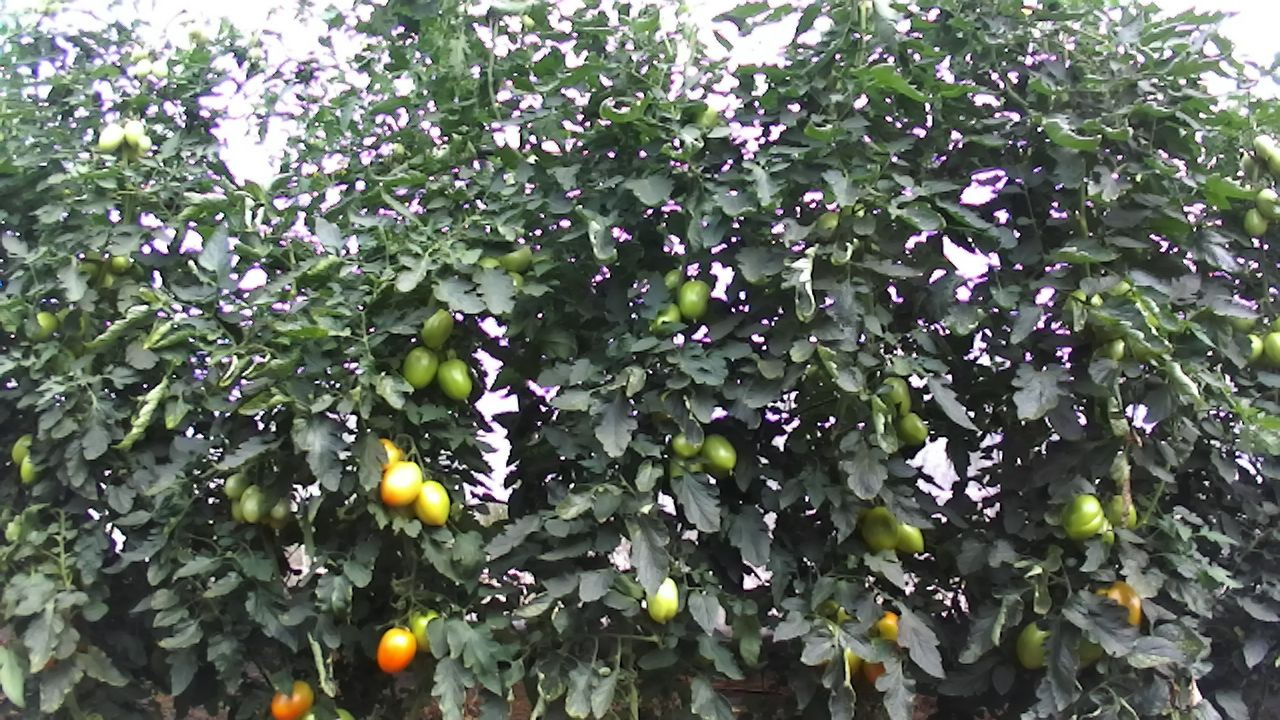tomato: (374, 625, 419, 676), (378, 459, 423, 509), (1061, 491, 1105, 542), (411, 477, 452, 529), (268, 676, 316, 720), (859, 504, 902, 553), (1013, 617, 1051, 672), (399, 343, 440, 391), (434, 356, 474, 404), (878, 370, 916, 419), (698, 431, 739, 475), (645, 574, 680, 625), (419, 305, 455, 351), (676, 278, 712, 324), (891, 516, 929, 559), (893, 409, 929, 447), (8, 429, 39, 469), (240, 489, 270, 527), (1251, 183, 1280, 222), (94, 121, 126, 154), (17, 452, 45, 487), (222, 472, 252, 502), (1241, 206, 1268, 238), (121, 115, 143, 149), (1260, 330, 1280, 366)
